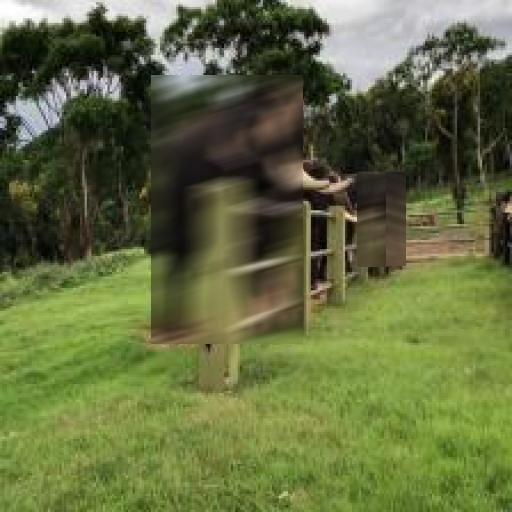Elephant: (151, 75, 303, 344), (357, 174, 392, 267), (386, 172, 406, 266)
